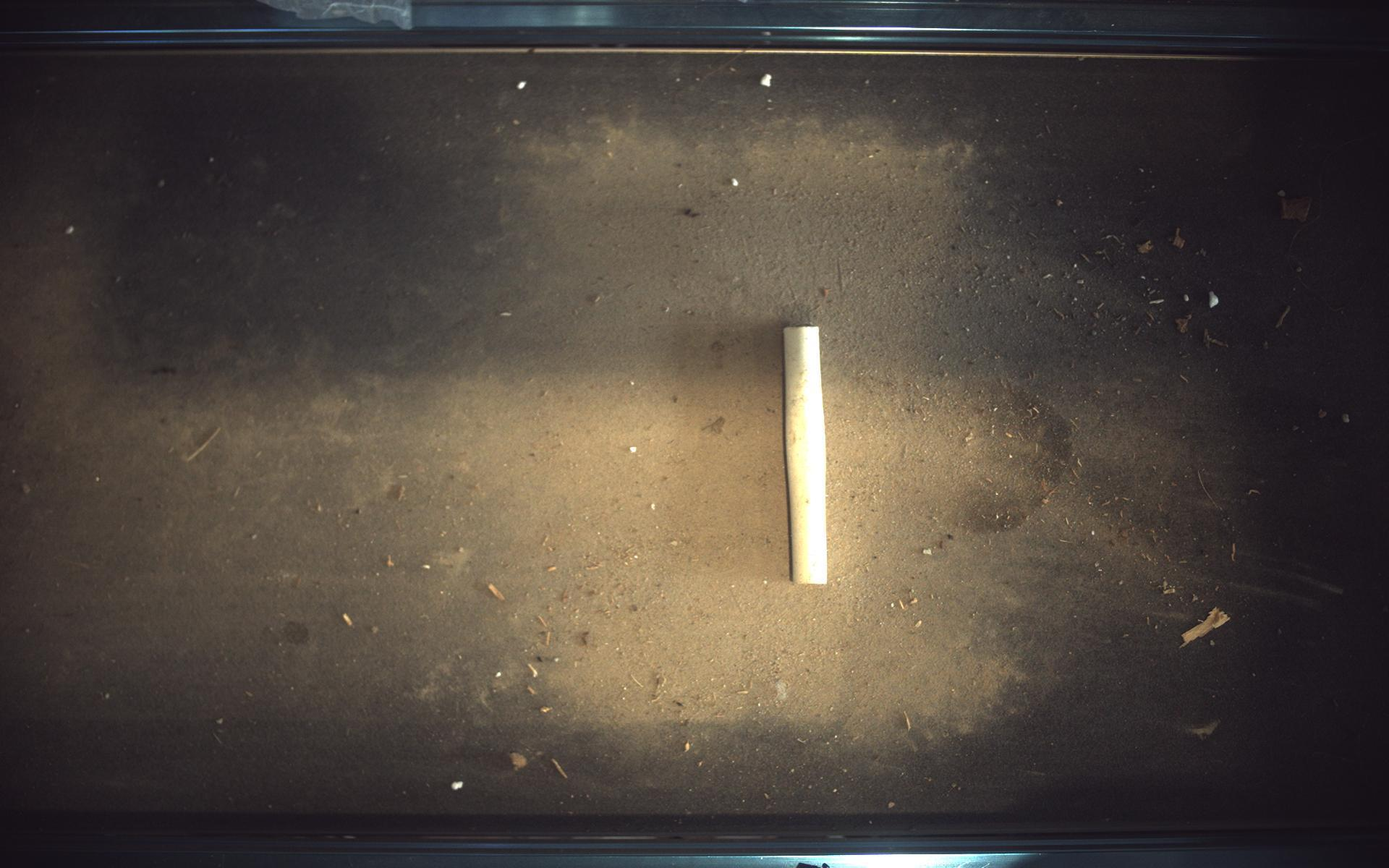pipes: (785, 326, 829, 585)
